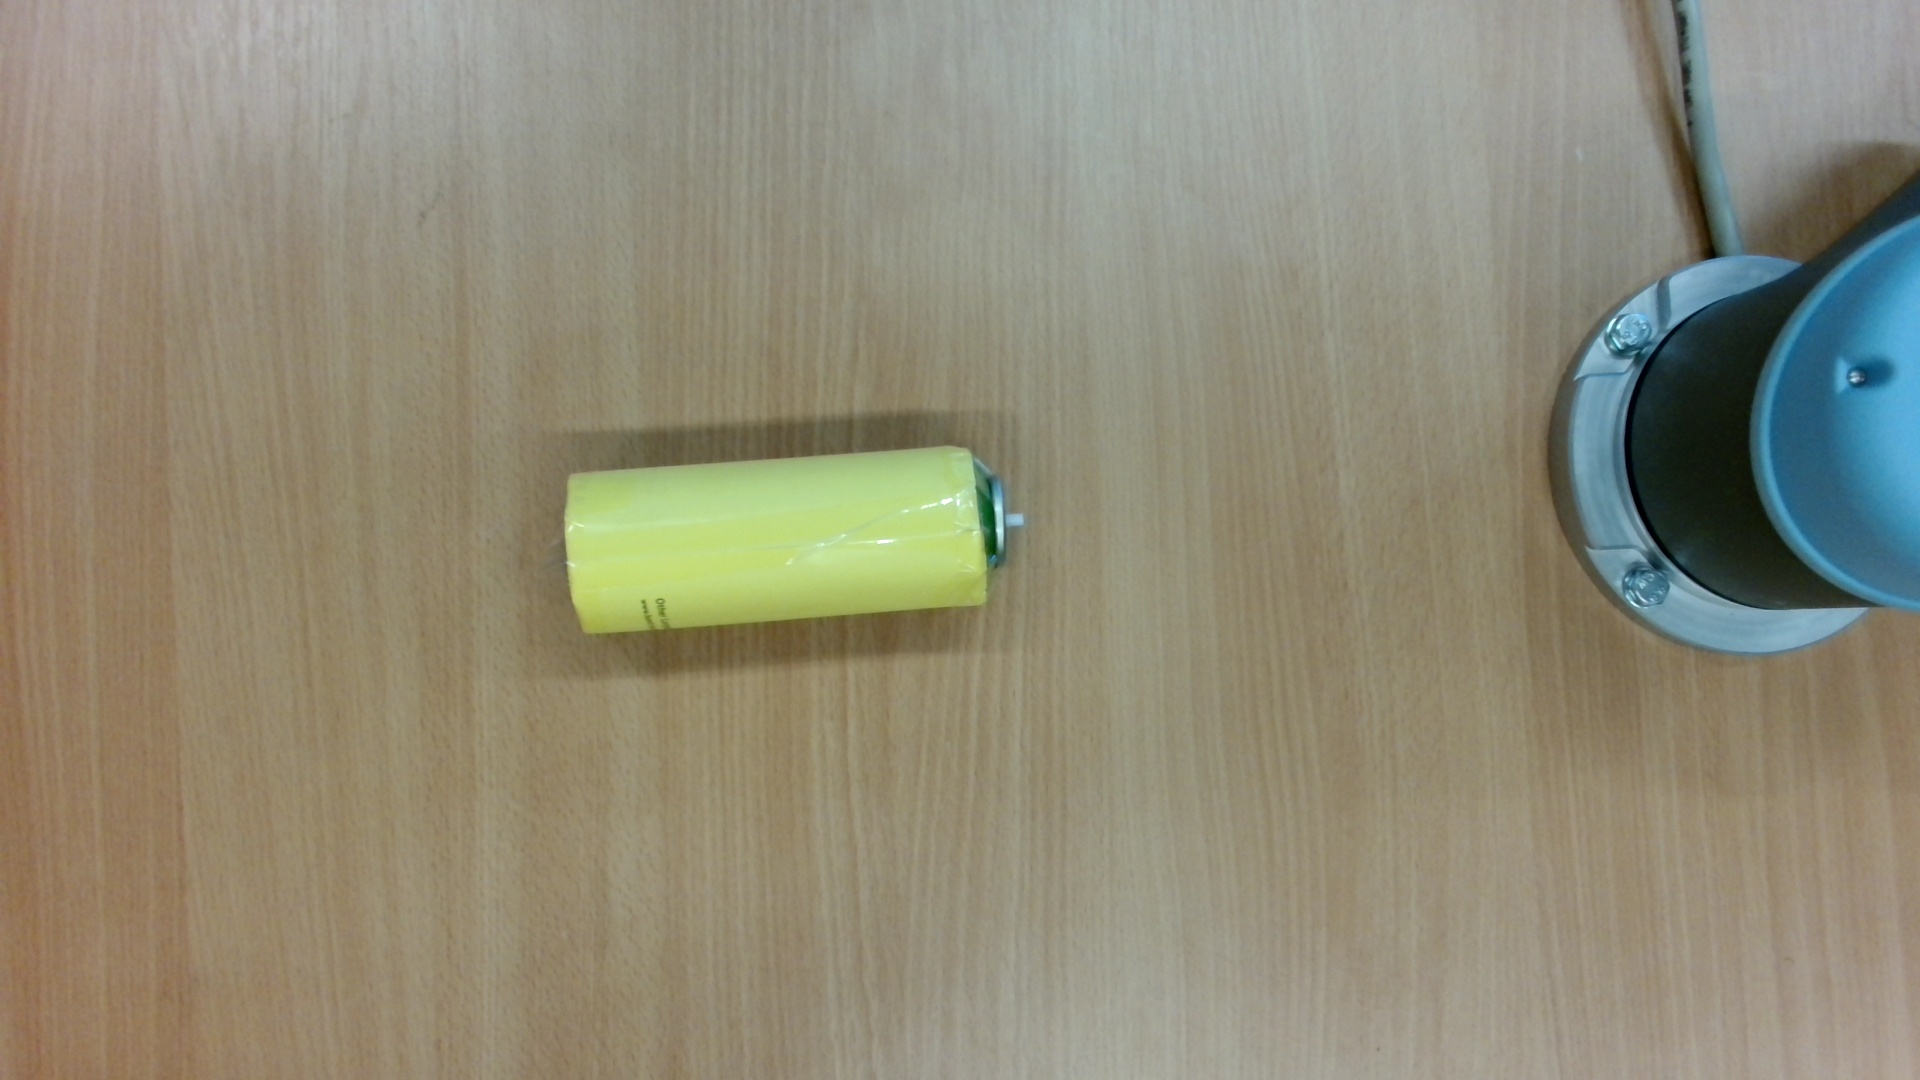Cylinder: (553, 436, 1043, 654)
